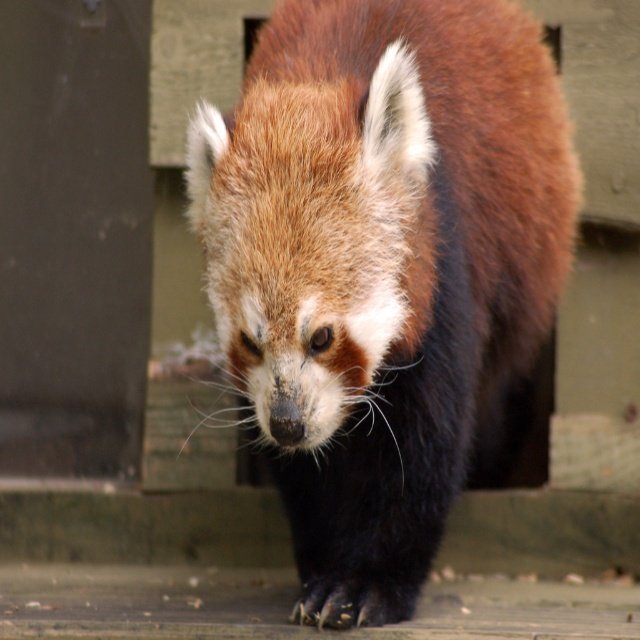Red panda: (176, 0, 587, 633)
